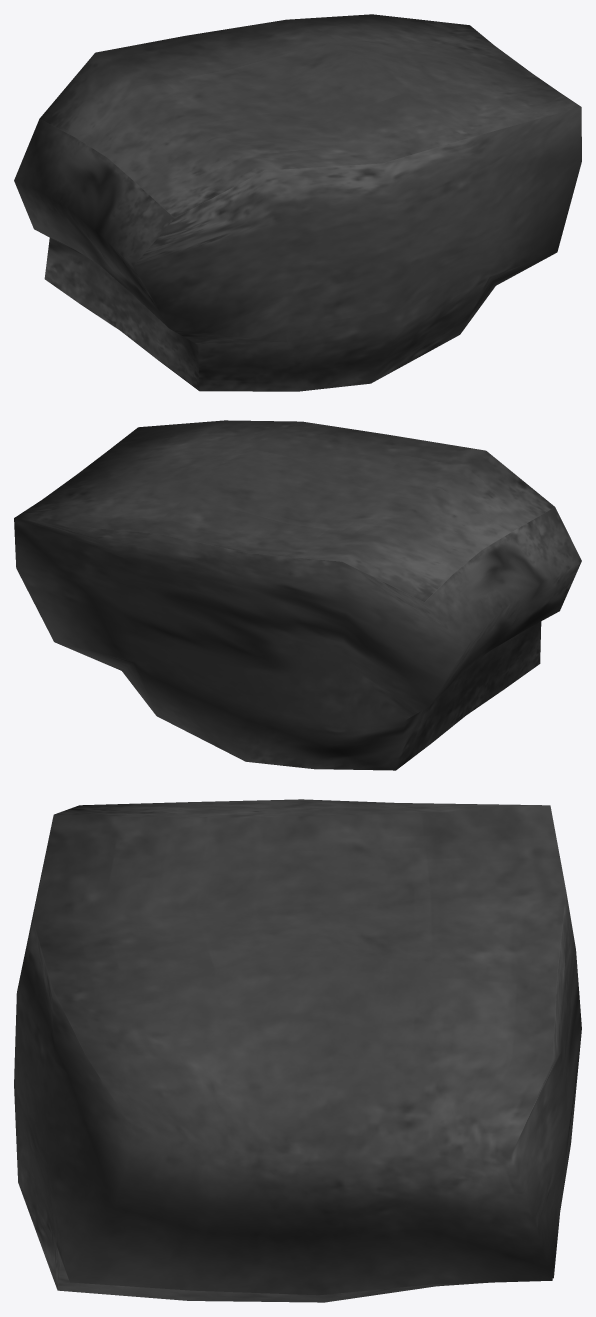
The model's file is Pedra1.fbx.
3 renders of one model, top to bottom at view 1: azimuth 30°, elevation 25°; view 2: azimuth 150°, elevation 25°; view 3: azimuth 270°, elevation 25°, orthographic. The views are drawn at different scales.
Visible parts, largest first — view 1: Pedra; view 2: Pedra; view 3: Pedra.
Boxes of the visible parts, <box> form: Pedra: <box>14,14,581,391</box>; Pedra: <box>14,420,581,770</box>; Pedra: <box>14,799,581,1302</box>.
Size of the model in its own units: 345 by 168 by 235.
